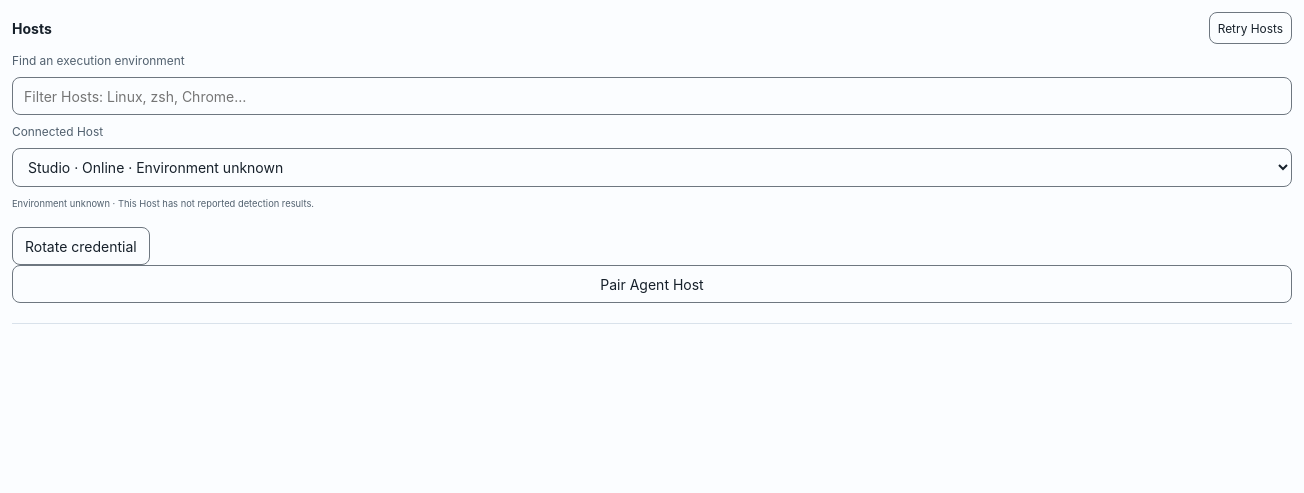
Test: shows pending rotation truthfully and does not expose a device credential
Click the button "Rotate credential".
click(81, 246)  # box 12,227 -> 150,265
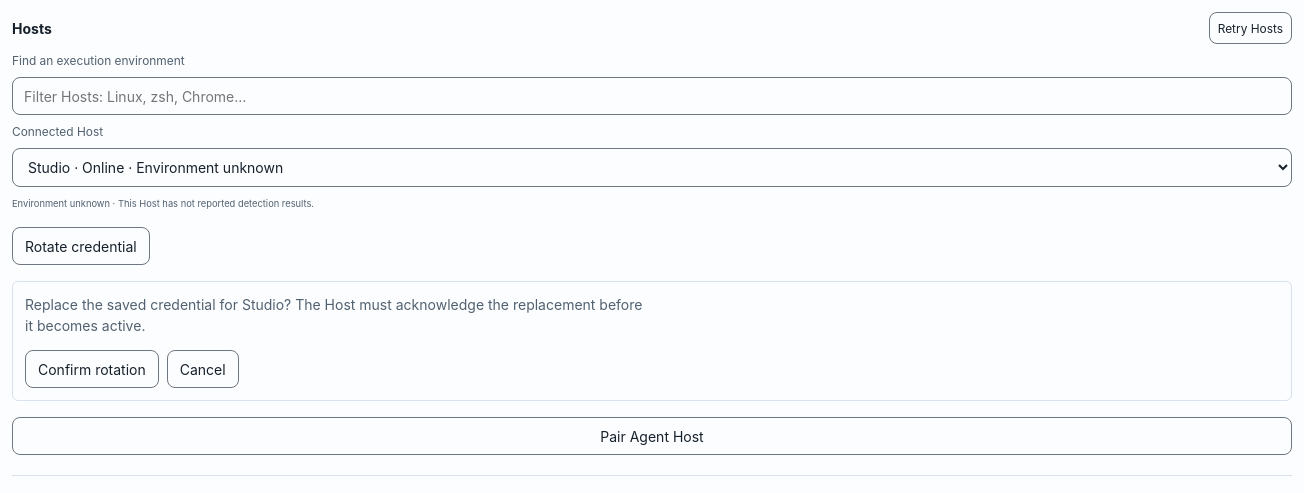
Click the button "Confirm rotation".
click(92, 369)  # box 25,350 -> 159,388
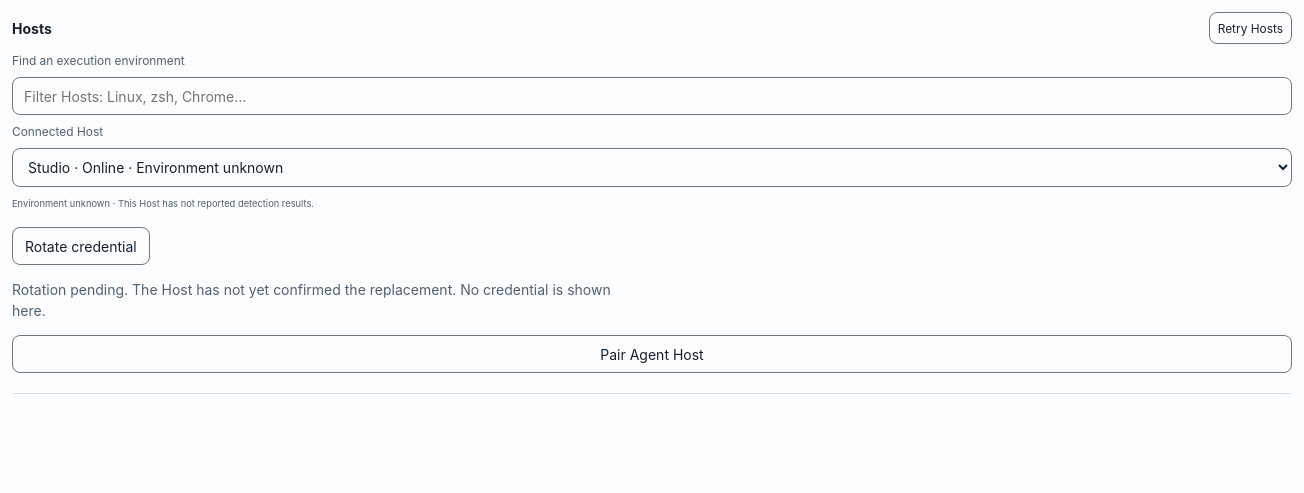
Now the text "Rotation pending" is shown, box 12,281 -> 611,319
